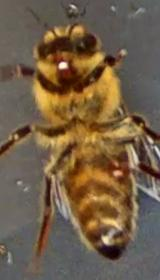varroa_mite: (103, 146, 136, 182)
